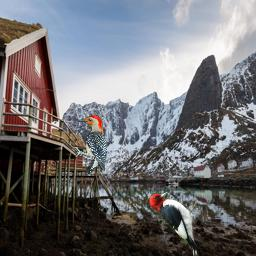Woodpecker: (149, 191, 197, 256), (74, 115, 108, 174)
